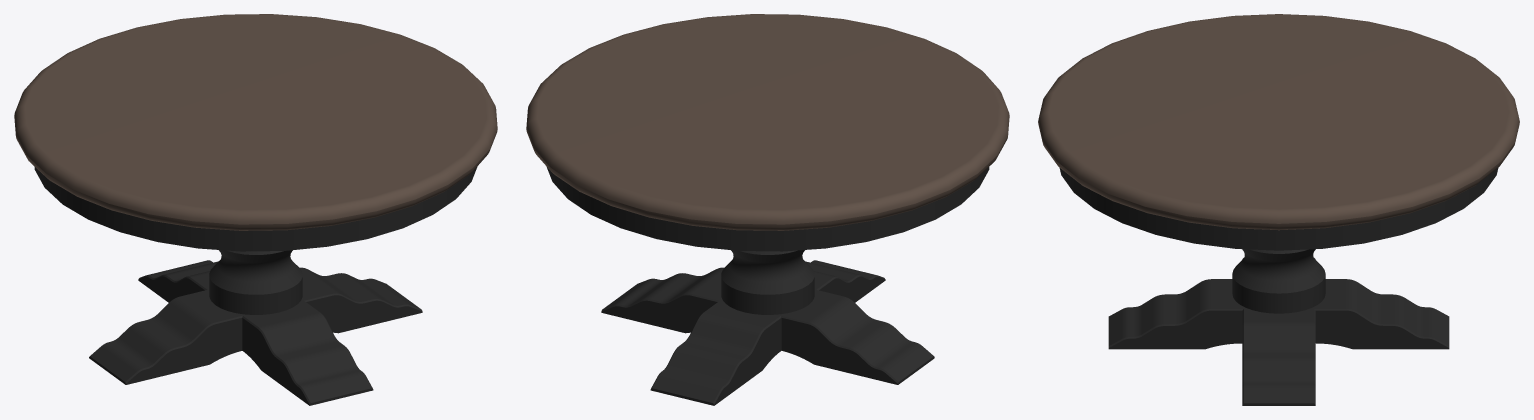
File: TableRonde_33.fbx
3 views of the same model, side by side, from view 1: azimuth 30°, elevation 25°; view 2: azimuth 150°, elevation 25°; view 3: azimuth 270°, elevation 25° (orthographic).
Visible parts, largest first — view 1: pCylinder17, pCube21, pCube22, pCube20, pCube23; view 2: pCylinder17, pCube21, pCube23, pCube20, pCube22; view 3: pCylinder17, pCube23, pCube22, pCube20.
Part boxes in pixels (x1,y1,x2,y2): pCylinder17: [14, 14, 497, 314]; pCube21: [89, 290, 242, 384]; pCube22: [241, 301, 373, 405]; pCube20: [206, 267, 422, 333]; pCube23: [138, 260, 218, 302]; pCylinder17: [526, 14, 1009, 314]; pCube21: [781, 290, 934, 384]; pCube23: [650, 301, 782, 405]; pCube20: [601, 267, 817, 333]; pCube22: [805, 260, 885, 302]; pCylinder17: [1038, 14, 1519, 313]; pCube23: [1309, 279, 1449, 349]; pCube22: [1108, 279, 1248, 349]; pCube20: [1242, 309, 1315, 405].
Bounding box in the file's own units: 54.72 × 27.81 × 54.72.
